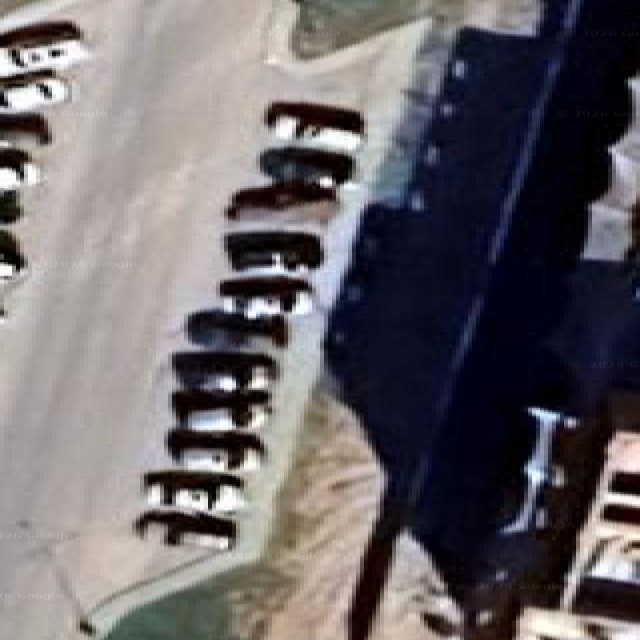car: (290, 0, 432, 59), (265, 102, 364, 152), (0, 21, 88, 76), (226, 180, 338, 223), (143, 469, 245, 514), (166, 427, 265, 472), (224, 230, 323, 273), (172, 351, 277, 391), (134, 509, 236, 550), (171, 390, 271, 431), (185, 309, 288, 347), (259, 146, 354, 187), (219, 276, 312, 317), (0, 72, 70, 112), (0, 231, 26, 298), (0, 148, 40, 191), (0, 112, 51, 145), (0, 231, 26, 288), (0, 191, 22, 224)
